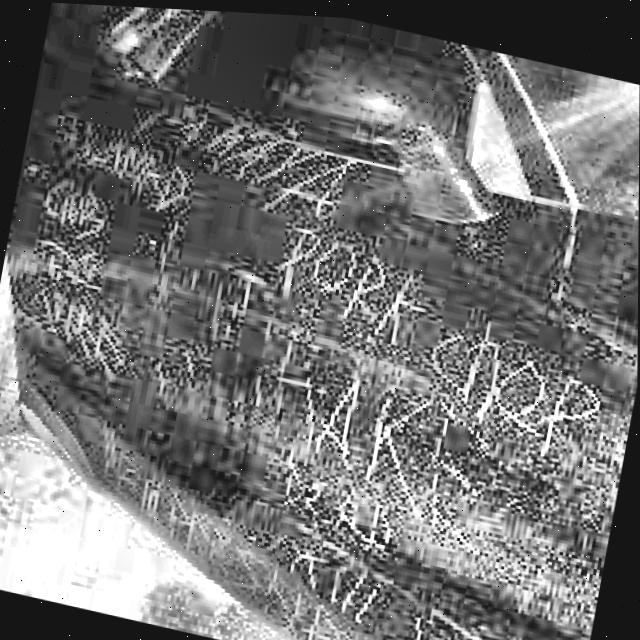door_scratch: (229, 226, 616, 562), (60, 403, 608, 640), (11, 170, 167, 390), (154, 107, 358, 220)
